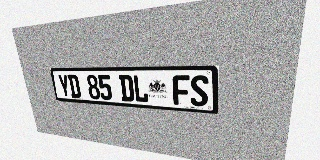5: (98, 75, 113, 100)
8: (86, 75, 101, 100)
D: (119, 75, 135, 102), (67, 75, 81, 98)
F: (172, 75, 190, 106)
L: (132, 75, 149, 103)
S: (190, 75, 208, 107)
Y: (57, 75, 71, 98)
